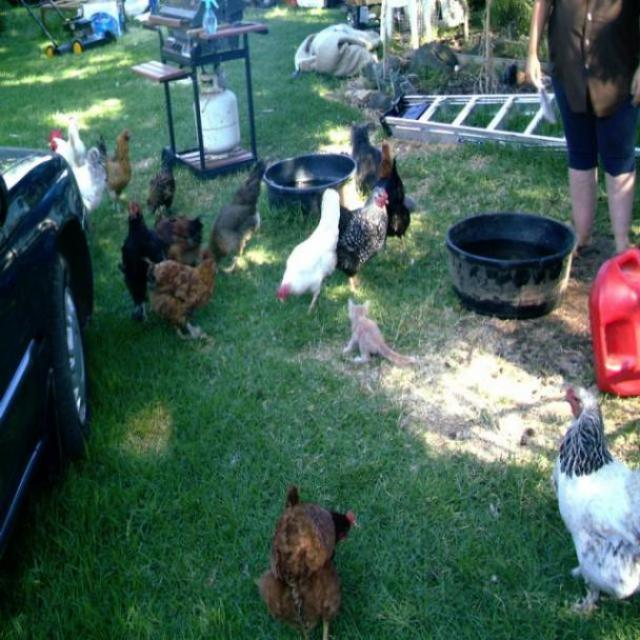Chicken: (549, 385, 634, 609), (253, 479, 360, 640), (276, 186, 341, 312), (111, 193, 169, 325), (203, 156, 265, 276), (143, 255, 220, 338), (340, 183, 383, 290), (151, 187, 203, 264), (97, 122, 131, 223), (68, 128, 107, 215), (371, 156, 411, 236), (143, 140, 176, 212), (64, 111, 87, 166), (44, 126, 69, 166), (376, 135, 397, 178)
